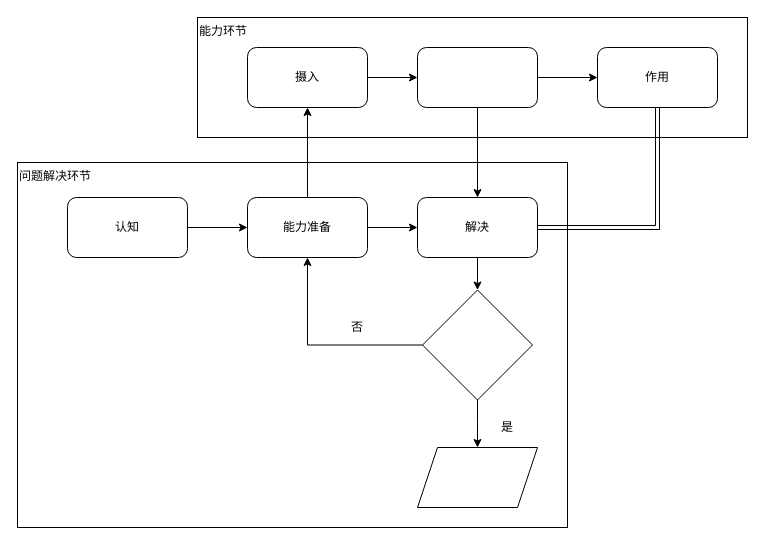
Image size: 765x545. Some labels were removed from this diagram. Each missing label, with the centre of its shape:
消化: the point at 477,77
结束: the point at 477,477
能否解决？: the point at 477,344
